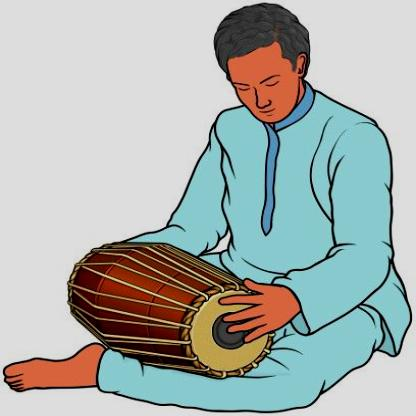Mridangam: (65, 234, 284, 383)
